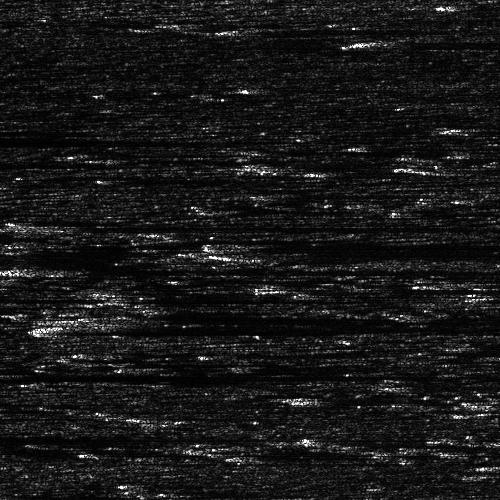object: (143, 234, 288, 255), (0, 258, 114, 275), (180, 448, 273, 461), (315, 38, 388, 49), (412, 280, 500, 289), (423, 122, 496, 131), (271, 394, 344, 403), (469, 286, 500, 303), (396, 164, 469, 171), (82, 287, 155, 294), (71, 314, 144, 319), (48, 324, 101, 329), (15, 213, 26, 236), (461, 400, 500, 405), (249, 191, 290, 194), (0, 493, 9, 496)
shadow: (20, 213, 440, 236), (216, 234, 500, 255), (0, 368, 336, 381), (25, 258, 234, 275), (0, 130, 105, 151), (74, 324, 500, 329), (107, 314, 500, 319), (352, 38, 500, 49), (308, 394, 453, 403), (119, 287, 258, 294), (226, 448, 300, 461), (0, 158, 82, 169), (0, 435, 176, 440), (0, 402, 52, 417), (433, 164, 500, 171), (0, 125, 49, 134), (0, 493, 130, 496), (459, 122, 500, 131), (464, 280, 500, 289), (270, 191, 344, 194)
